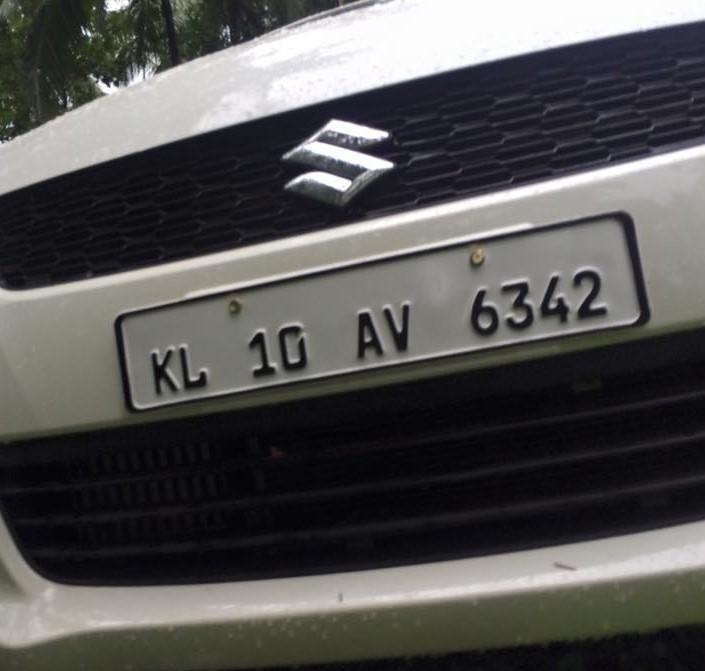License-Plate: (108, 251, 653, 411)
